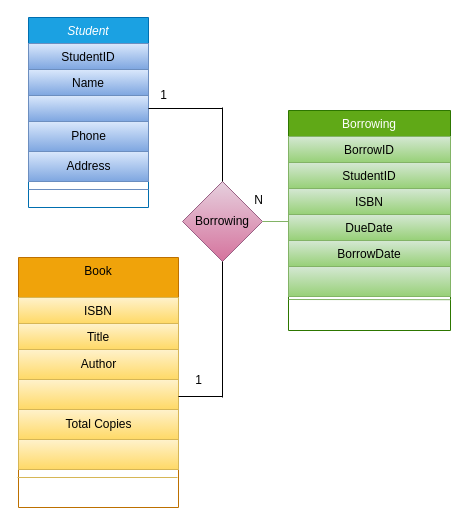
The diagram is 470 pixels wide and 525 high, and some of its shapes have lost their labels. Here are the shapes that lost their labels. From the top down, the centre of each, then its label:
At pixel 88 108: "Email Address".
At pixel 369 281: "ReturnDate".
At pixel 98 394: "Genre".
At pixel 98 454: "AvailableCopies".
